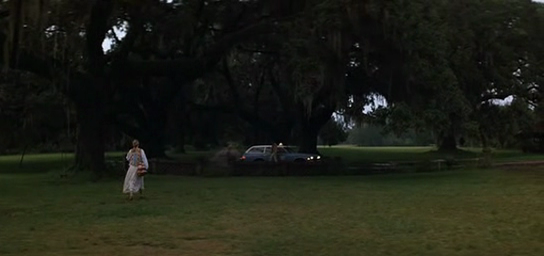els: (1, 1, 544, 256)
face_es: (133, 141, 138, 146)
person: (122, 138, 148, 201)
